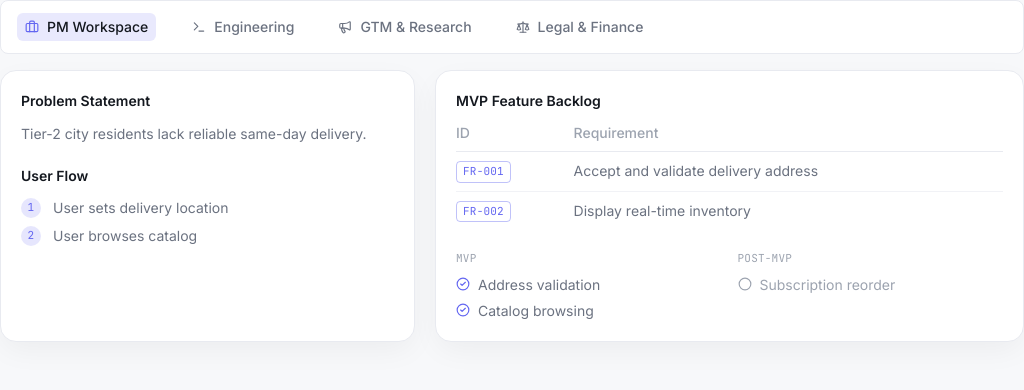
it: WorkspaceTabs switching › switches to Legal & Finance content on click, including the warning banner
This screenshot has width=1024, height=390.
Click the tab "Legal & Finance" at (580, 27), box [496,5,663,49]
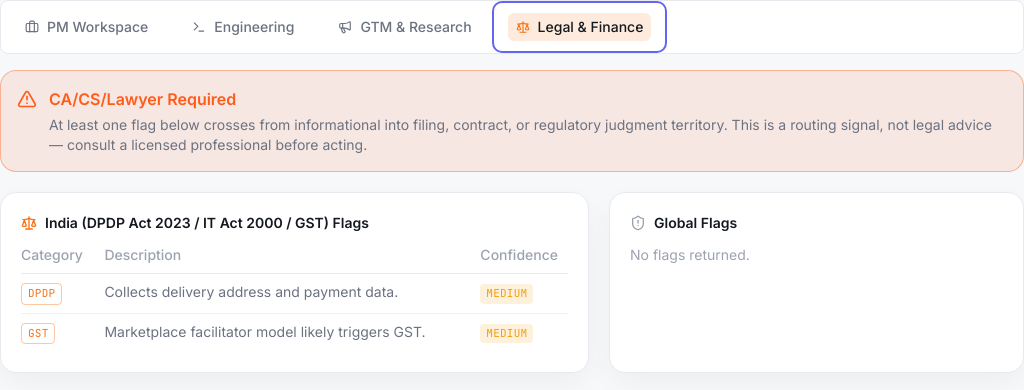
Result: the text "CA/CS/Lawyer Required" is shown at [49,89,236,109]
